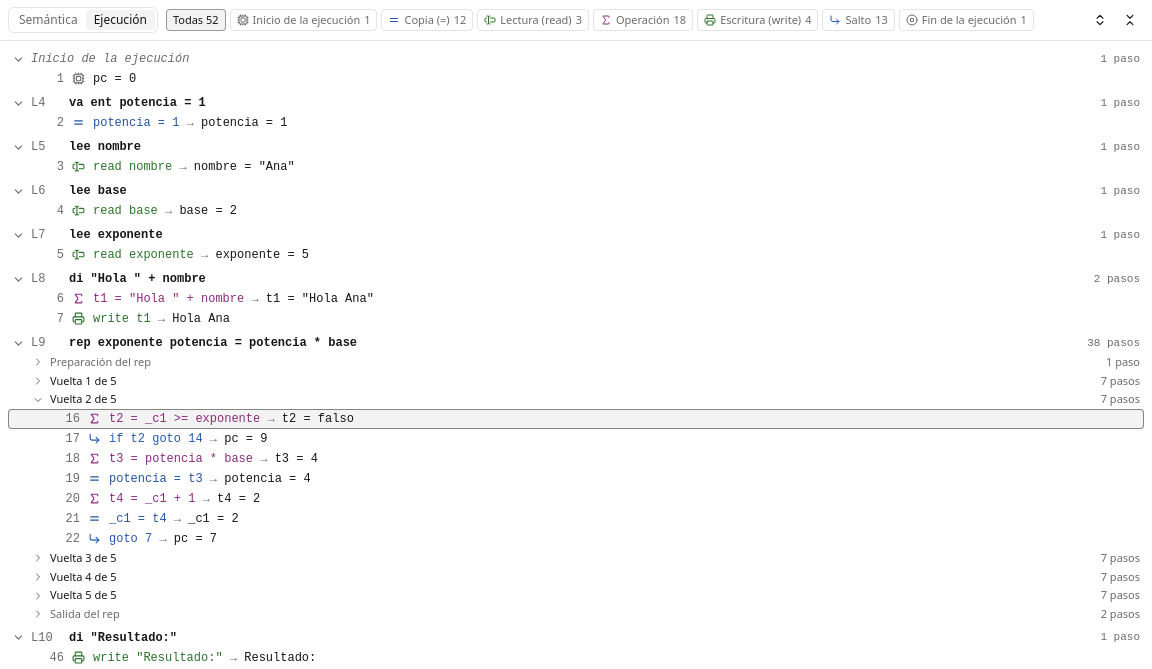
Scenario: trazas más claras › la lista agrupa el rep por vueltas, plegadas salvo la del paso actual
The width and height of the screenshot is (1152, 669).
Expected: the button "Preparación del rep 1 paso" is shown, [8,353,1144,372]
Expected: the button "Vuelta 5 de 5 7 pasos" is shown, [8,586,1144,605]
Click the button "Vuelta 1 de 5 7 pasos".
click(83, 380)  # box [8,372,1144,390]
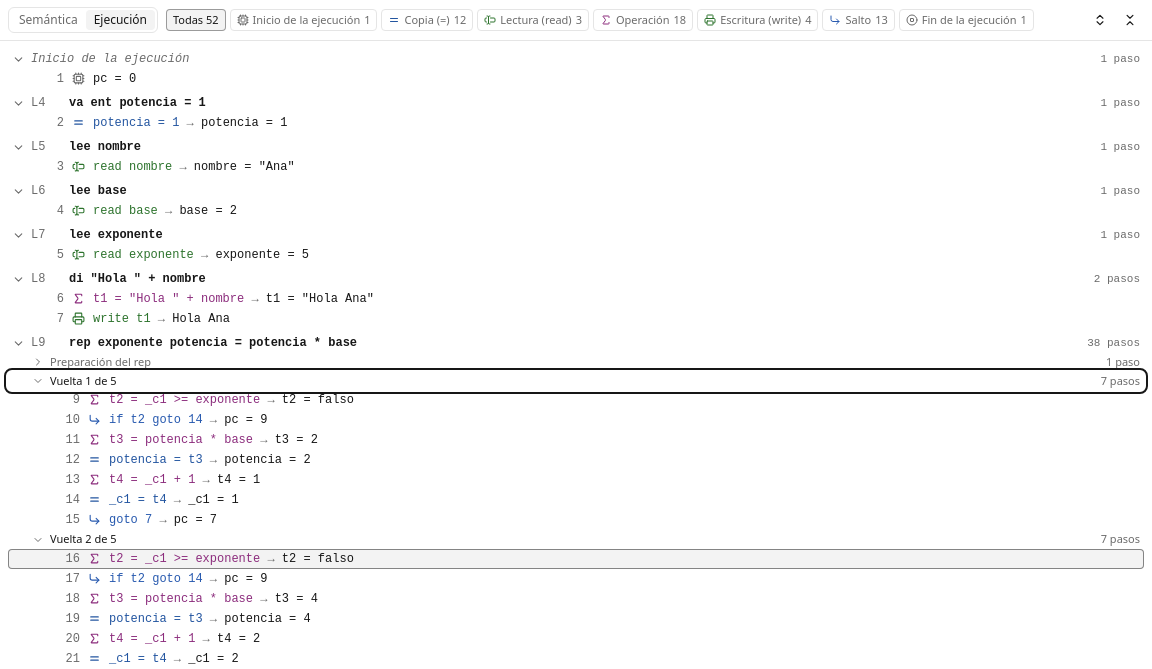
Expected: the button "Vuelta 1 de 5 7 pasos" is expanded, [8,372,1144,390]
